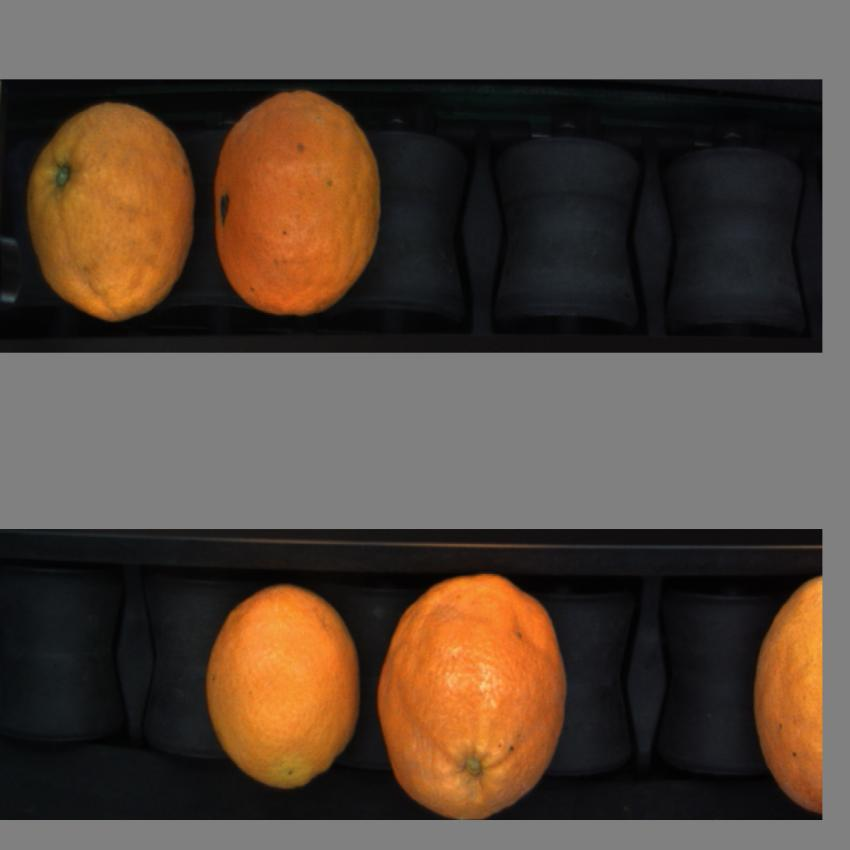Buen estado: (203, 580, 363, 796), (748, 570, 823, 812)
Mal estado: (376, 570, 571, 818), (23, 95, 198, 324), (214, 86, 384, 318)
